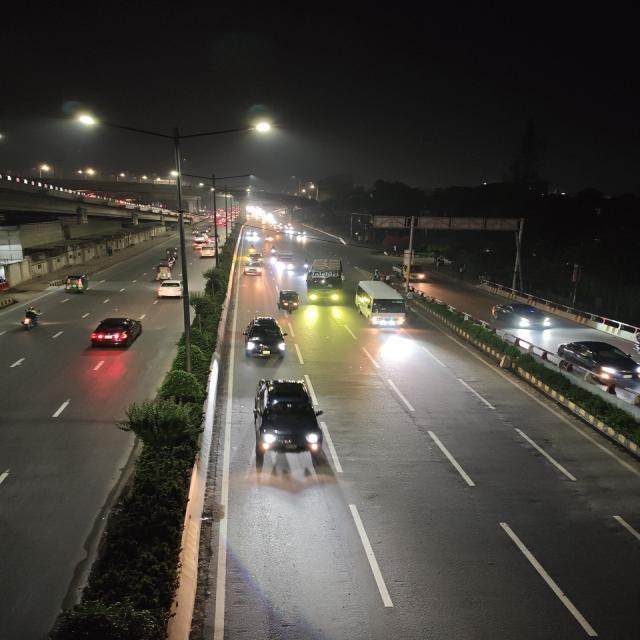bus: (352, 280, 411, 332), (303, 255, 347, 306)
car: (249, 374, 329, 474), (553, 337, 640, 389), (86, 313, 147, 354), (488, 301, 558, 335), (239, 315, 289, 361), (154, 278, 185, 302), (195, 244, 220, 260), (241, 264, 265, 278), (245, 252, 266, 266), (192, 237, 209, 249)
cng: (59, 271, 95, 297), (277, 288, 302, 316), (151, 263, 174, 282)
motorcycle: (14, 304, 45, 334), (163, 255, 179, 268)
pickup_van: (391, 261, 428, 283)
truck: (273, 252, 297, 273)
